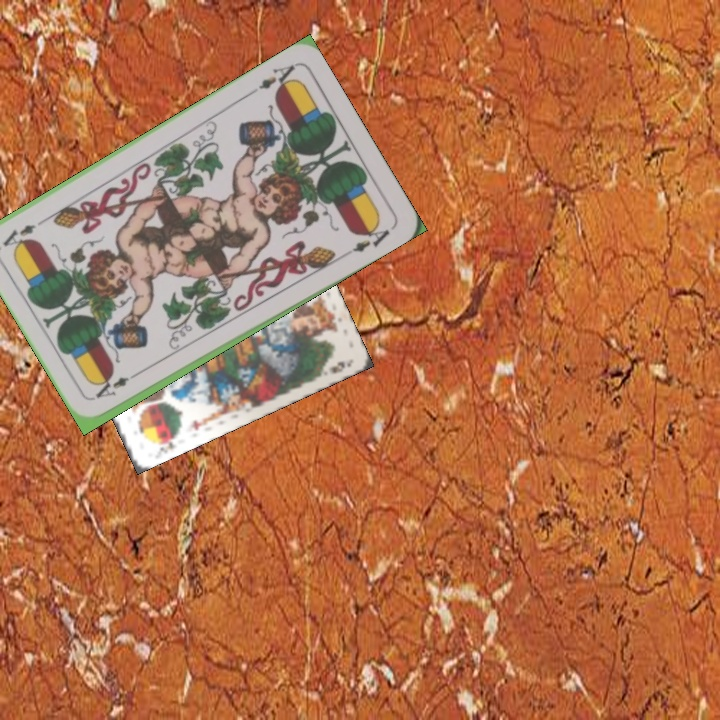EA: (246, 61, 300, 98), (91, 366, 144, 401)
SK: (152, 437, 178, 458)
